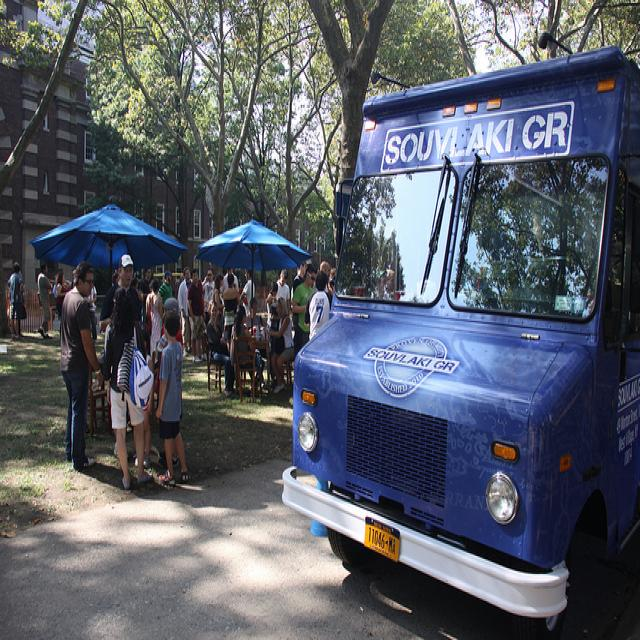Vehicle: (282, 46, 640, 634)
